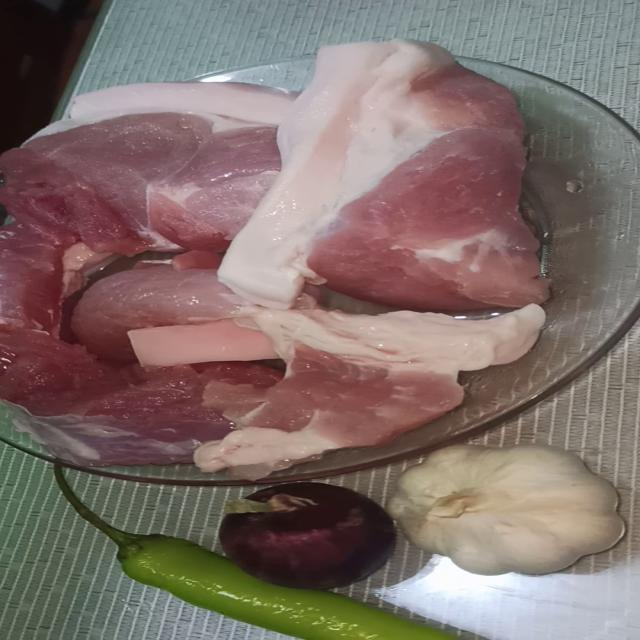chili_pepper: (3, 473, 554, 640)
garlic: (352, 441, 640, 578)
onion: (207, 478, 418, 595)
pork: (187, 298, 593, 485), (243, 57, 536, 312), (9, 65, 311, 297), (0, 247, 190, 475), (62, 240, 282, 373)
